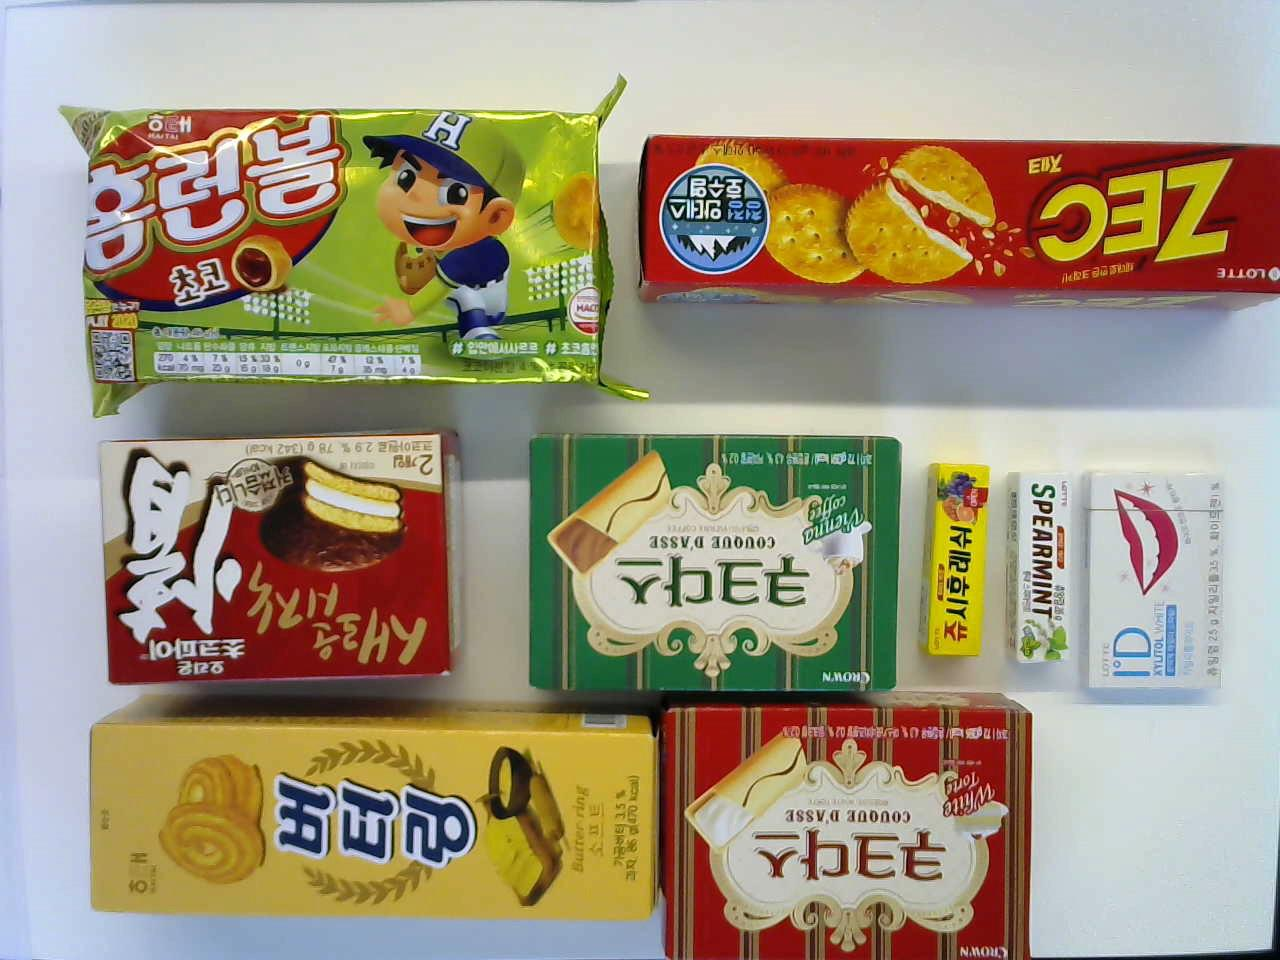ID_gum: (1078, 469, 1225, 695)
buttering: (90, 694, 662, 940)
chocopie: (95, 422, 461, 683)
couque_coffee: (523, 431, 905, 694)
couque_white: (661, 694, 1029, 959)
homerunball: (68, 108, 617, 389)
juicyfresh: (921, 458, 994, 655)
spearmint: (1007, 470, 1077, 667)
zec: (635, 137, 1280, 305)
